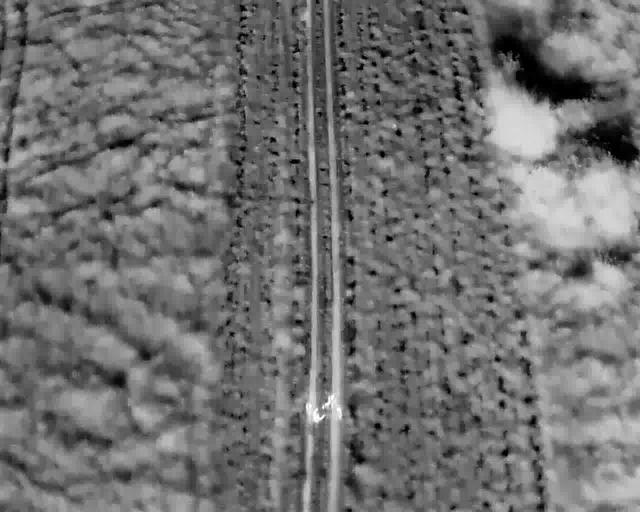person: (320, 391, 338, 410), (311, 407, 326, 424), (333, 404, 344, 422), (303, 400, 314, 418)
